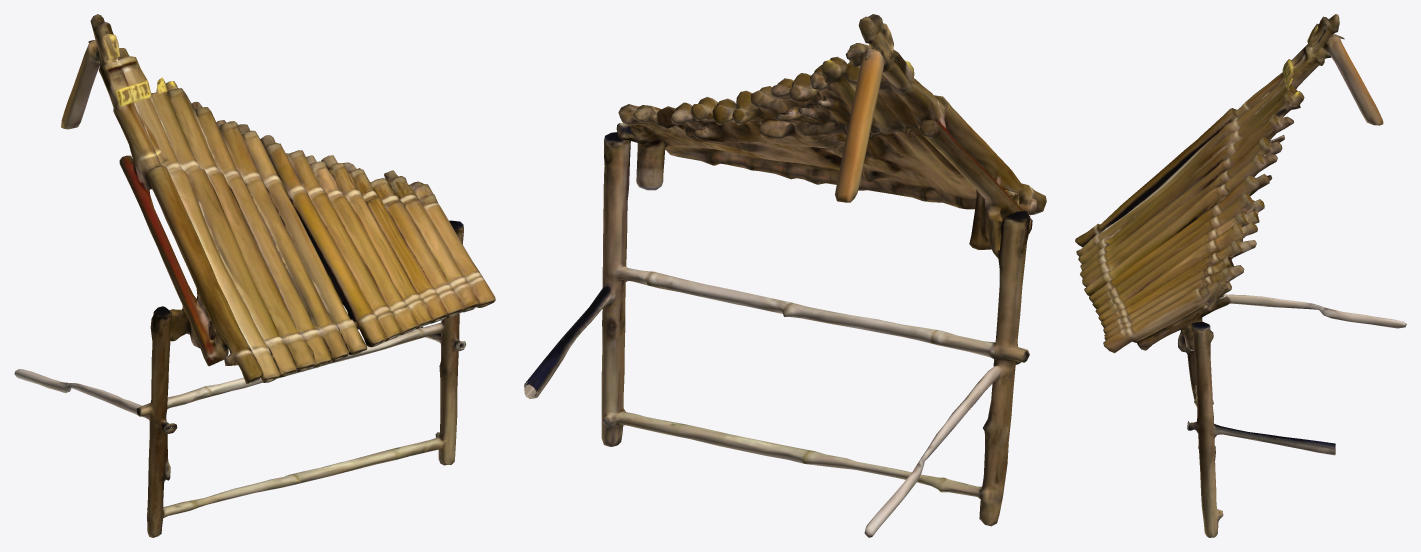
The picture shows the model from 3 angles, left to right: view 1: azimuth 30°, elevation 25°; view 2: azimuth 150°, elevation 25°; view 3: azimuth 270°, elevation 25°; orthographic projection. The views are drawn at different scales.
Size of the model in its own units: 0.7066 by 0.9452 by 0.7036.
Materials: 1 (1 with a texture image).
